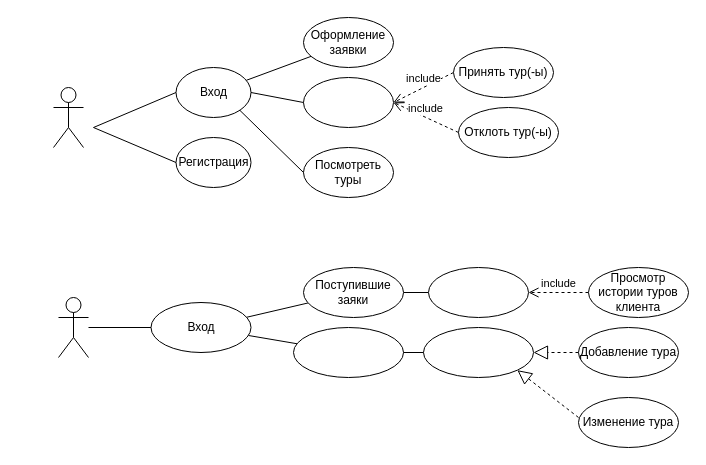
Some shapes in this 706 by 465 pixel diagram are drawn without their labels. The shapes that lost their labels are listed below. From the top down, each one's centre as x and y in pixels, then its label:
point (68, 117): Клиент
point (348, 102): Узнать статус заявки
point (478, 292): Ответ на зявку
point (73, 327): Работник турфирмы
point (348, 352): Просмотр клиентской базы
point (478, 352): Просмотр профиля клиента
